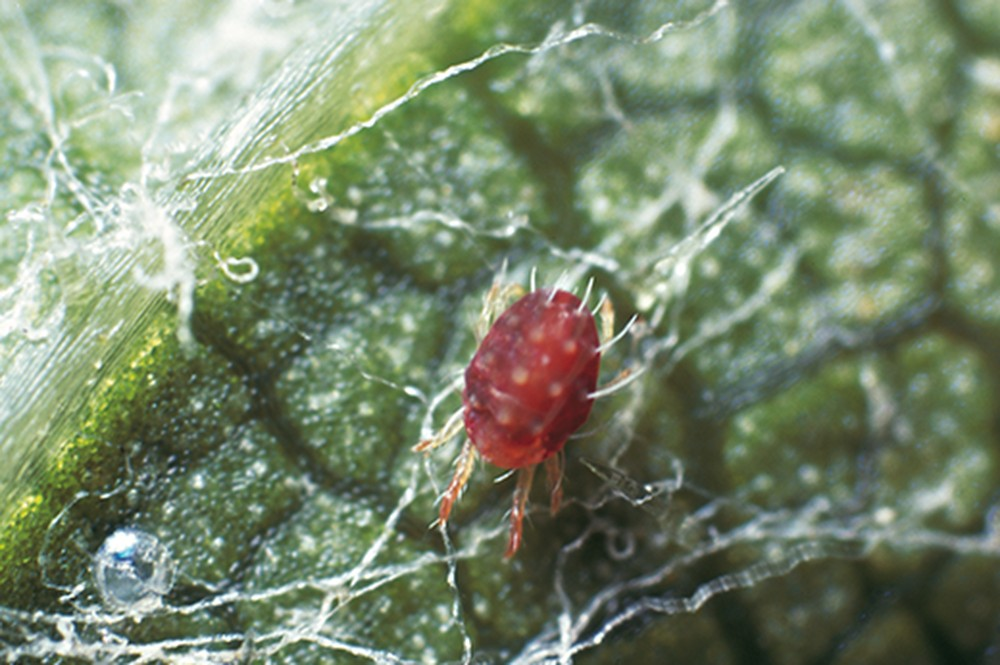Aracnido Rojo: (413, 256, 642, 562)
